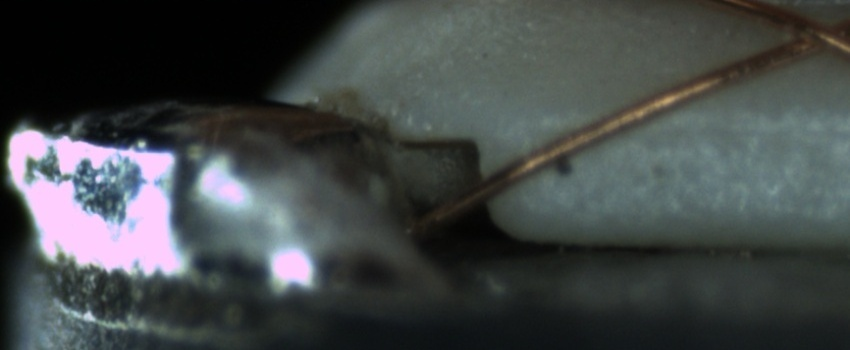CL: (761, 3, 847, 66)
DL: (553, 96, 850, 161)
